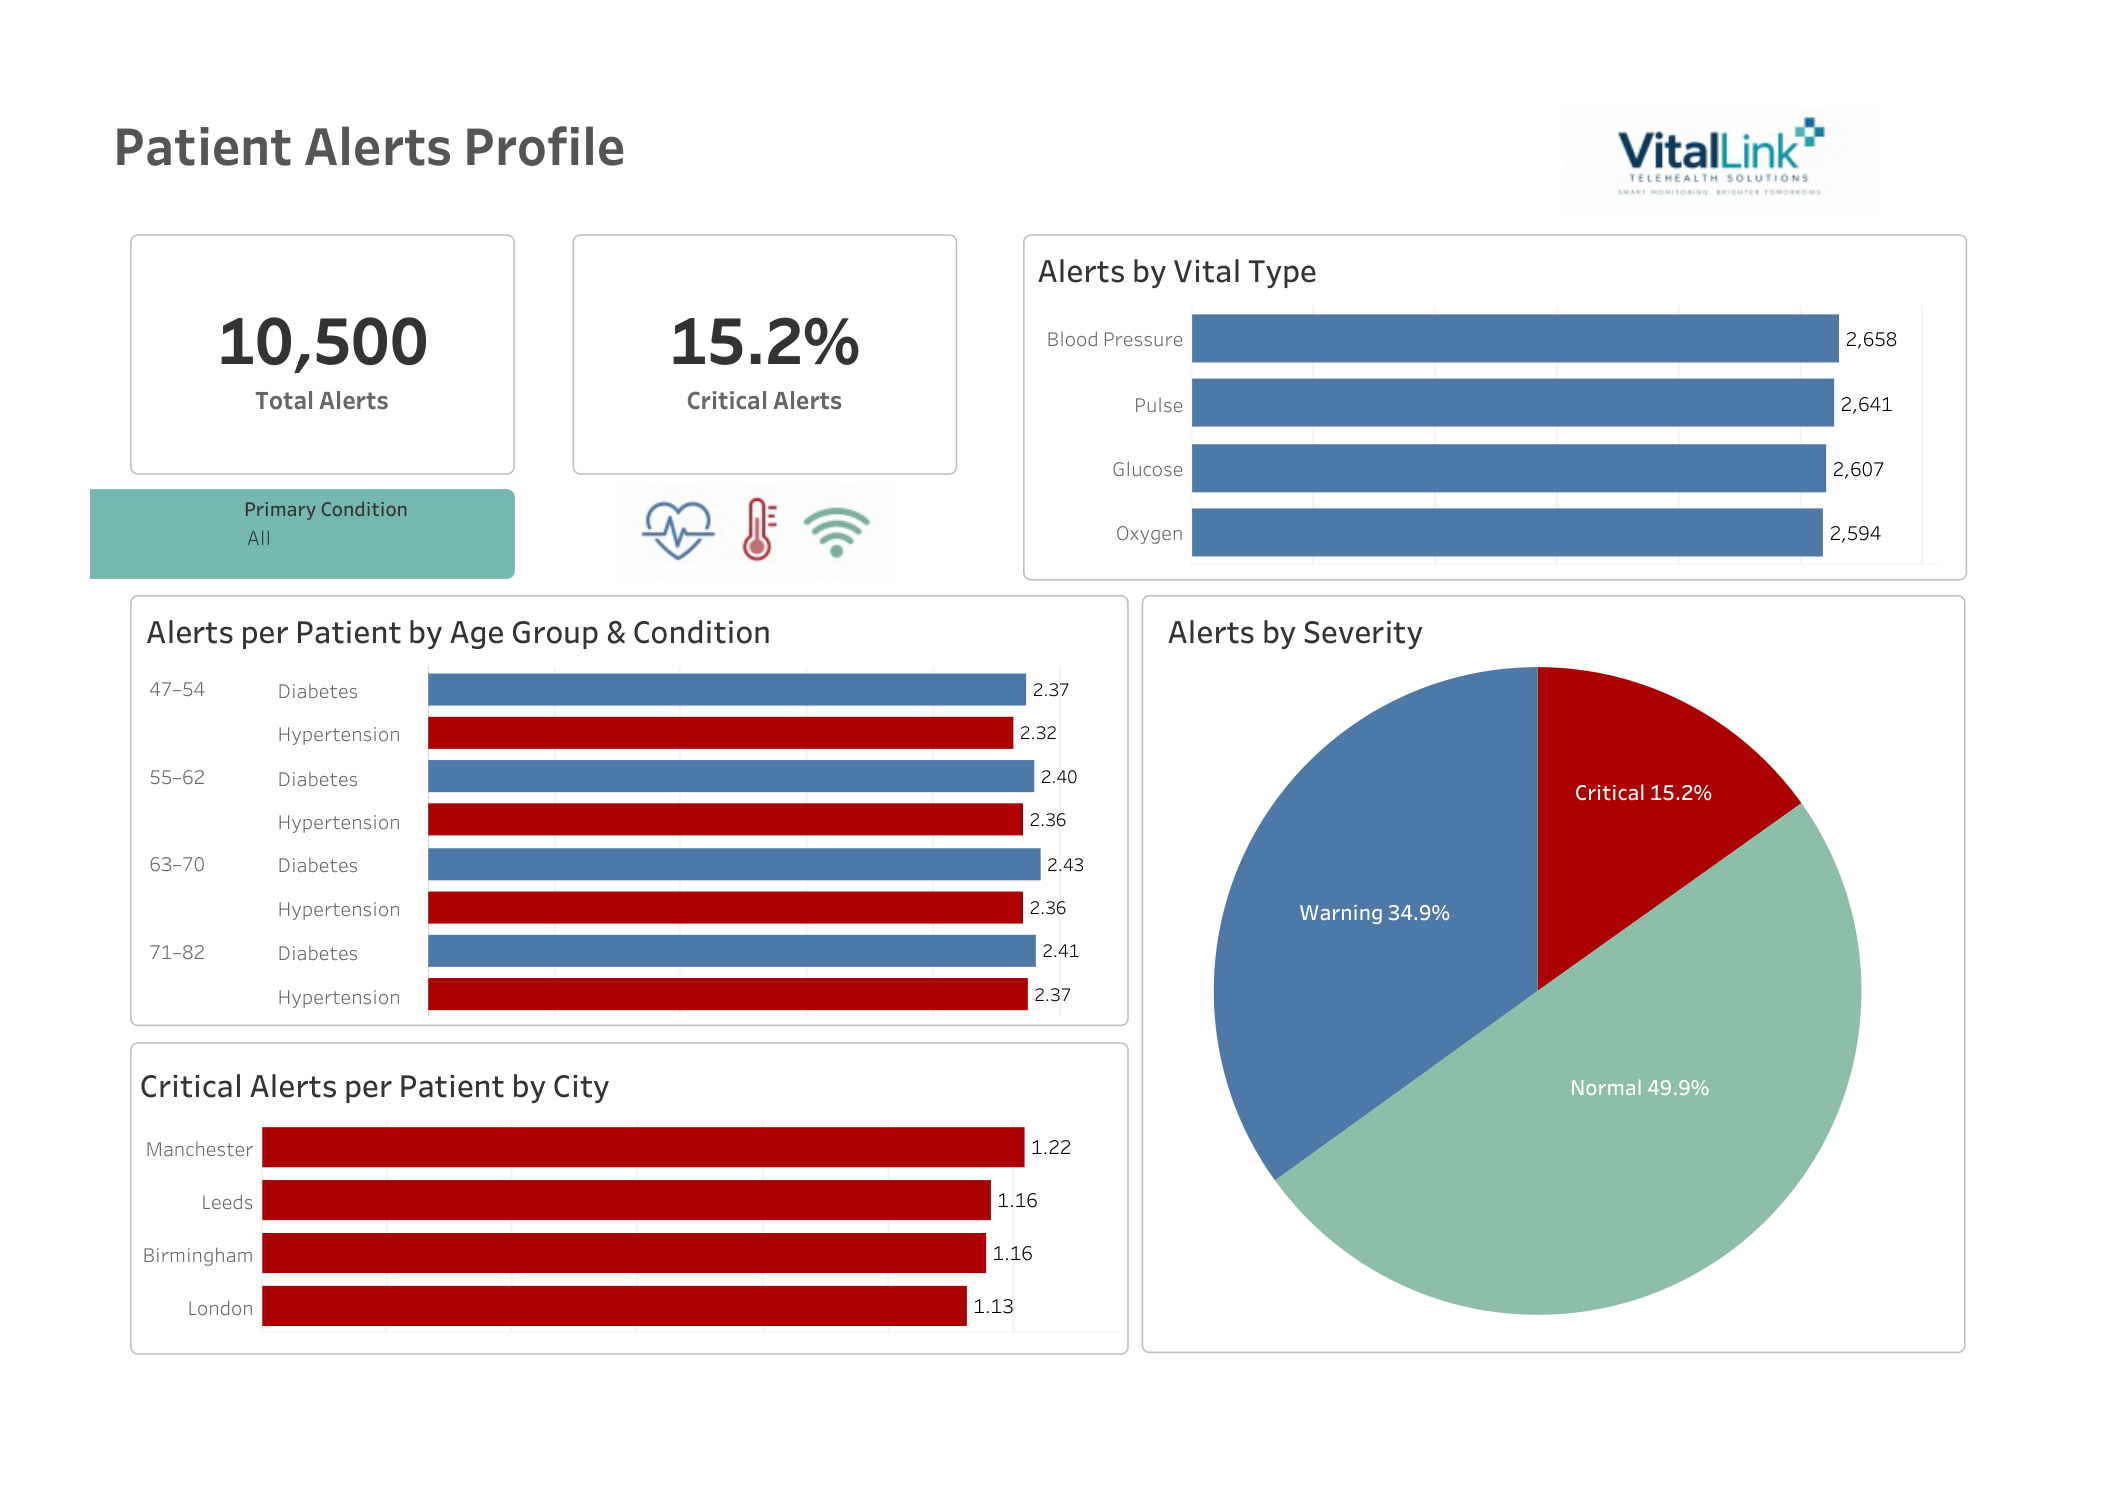

The page's visual inventory and layout, read from the dashboard file:
{"tool":"tableau","page":{"name":"Patient Alerts Profile","canvas":[1200,800],"ordinal":1},"visuals":[{"type":"title","box":[8,8,1184,62]},{"type":"image","param":"Image/logo.png","box":[920,10,198,65]},{"type":"worksheet","title":"KPI - Total Alerts","mark":"Text","box":[25,90,240,150]},{"type":"worksheet","title":"KPI - Critical %","mark":"Automatic","box":[301,90,240,150]},{"type":"blank","box":[582,90,589,216]},{"type":"worksheet","title":"Alerts by Vital Type","mark":"Automatic","rows":["VitalType"],"cols":["Alert ID (copy)_1845847031443458"],"box":[587,93,565,203]},{"type":"image","param":"Image/logo fill.png","box":[280,247,274,59]},{"type":"blank","box":[0,249,265,56]},{"type":"filter","title":"Alerts per Patient by Age Group & Condition","param":"[federated.1eprvtu0hil5dm1aysia40ns56nv].[none:Primary_Condition:nk]","box":[96,251,160,52]},{"type":"blank","box":[25,315,623,269]},{"type":"blank","box":[656,315,514,473]},{"type":"worksheet","title":"Alerts per Patient by Age Group & Condition","mark":"Bar","rows":["Calculation_1845847028822017","Primary_Condition"],"cols":["Calculation_0558321358118914"],"box":[31,318,613,260]},{"type":"worksheet","title":"Alerts by Severity","mark":"Pie","box":[668,318,470,446]},{"type":"blank","box":[25,594,623,195]},{"type":"worksheet","title":"Critical Alerts per Patient by City","mark":"Automatic","rows":["PatientCity"],"cols":["Calculation_0558321361457155"],"box":[27,601,614,174]}]}

Visuals, with their boxes on the page's 1200x800 design canvas (x1, y1, x2, y2). These are canvas units, not pixel positions in the 2105x1488 screenshot, which may show the page scaled, cropped or inside an application window:
title: locate(8, 8, 1192, 70)
image: locate(920, 10, 1118, 75)
"KPI - Total Alerts" worksheet (Text marks): locate(25, 90, 265, 240)
"KPI - Critical %" worksheet: locate(301, 90, 541, 240)
blank: locate(582, 90, 1171, 306)
"Alerts by Vital Type" worksheet: locate(587, 93, 1152, 296)
image: locate(280, 247, 554, 306)
blank: locate(0, 249, 265, 305)
"Alerts per Patient by Age Group & Condition" filter: locate(96, 251, 256, 303)
blank: locate(25, 315, 648, 584)
blank: locate(656, 315, 1170, 788)
"Alerts per Patient by Age Group & Condition" worksheet (Bar marks): locate(31, 318, 644, 578)
"Alerts by Severity" worksheet (Pie marks): locate(668, 318, 1138, 764)
blank: locate(25, 594, 648, 789)
"Critical Alerts per Patient by City" worksheet: locate(27, 601, 641, 775)
